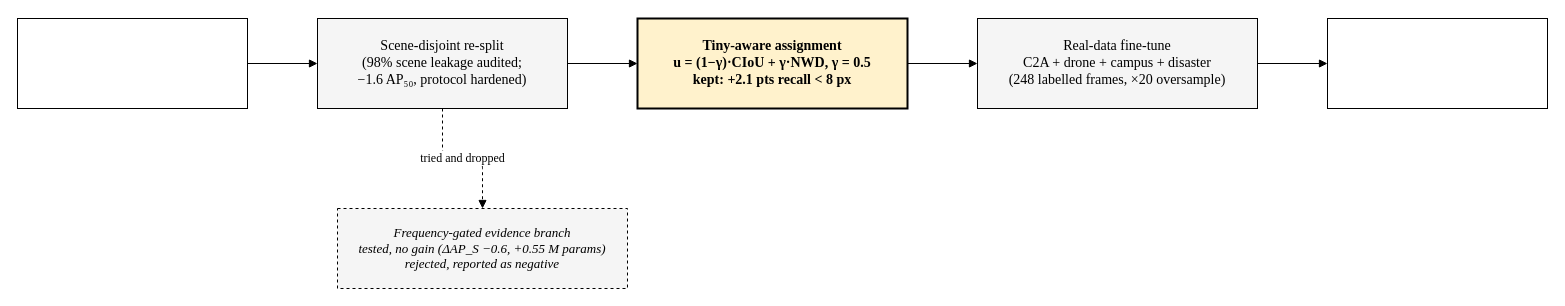
Image size: 1565x306. Some labels were removed from this diagram. The shapes that lost their labels are listed below. From the top down, each one's box as (x1, y1, x2, y2) in pixels, then its label:
(16, 18, 248, 108): CBAM + P2 (recommended model, official split AP₅₀ 0.853)
(1326, 18, 1548, 108): One model, five held-out test domains (C2A / drone / disaster ×2 / campus)
